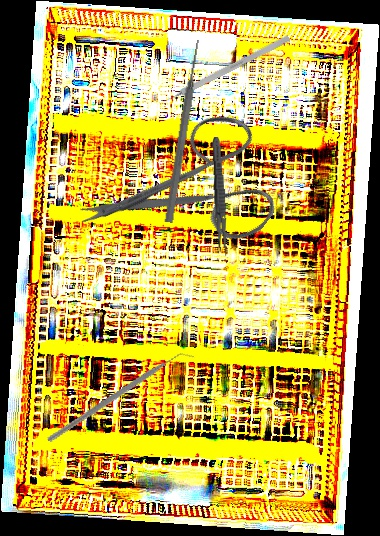Chopper: (46, 314, 196, 483)
Dressing Forceps: (209, 136, 231, 257)
Hook Surgical: (155, 34, 291, 109)
Iris Scissors: (72, 74, 307, 315)
Pusher: (163, 38, 204, 224)
